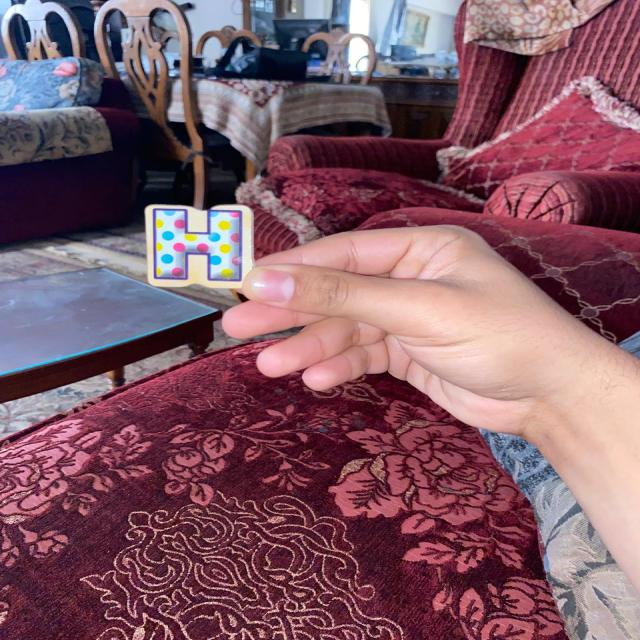H: (145, 205, 253, 289)
